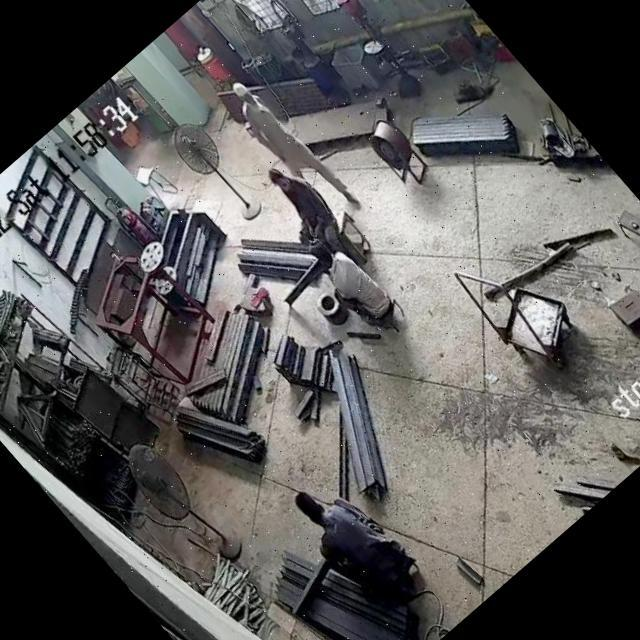person: (281, 458, 444, 630), (212, 61, 366, 230), (259, 154, 370, 272), (302, 226, 410, 341)
